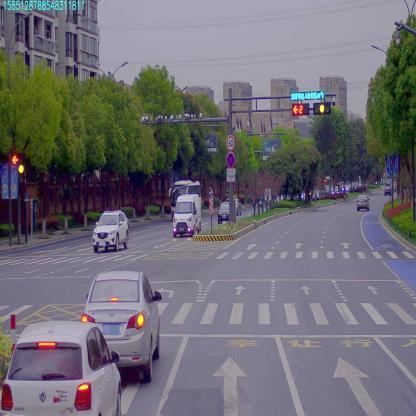traffic-light: (289, 90, 326, 101), (292, 102, 308, 116), (314, 104, 332, 116)
